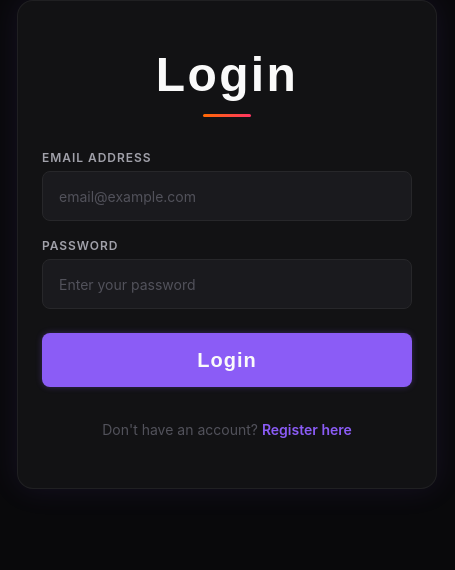
LoginForm › shows the authentication error and keeps the form available
In the field labelled "Email Address": (227, 196) x1=42 y1=171 x2=412 y2=221, type "amina@example.com"
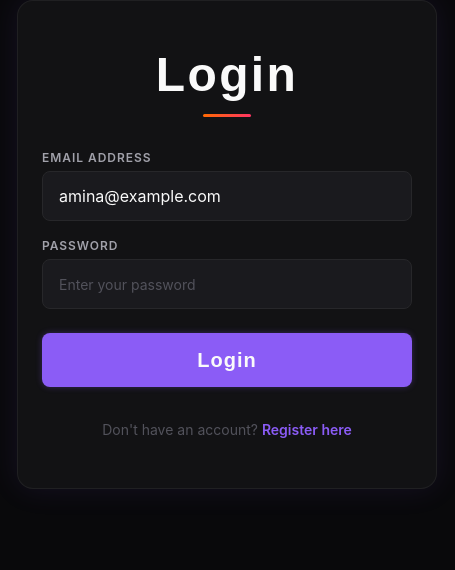
In the password field labelled "Password": (227, 284) x1=42 y1=259 x2=412 y2=309, type "wrong-password"
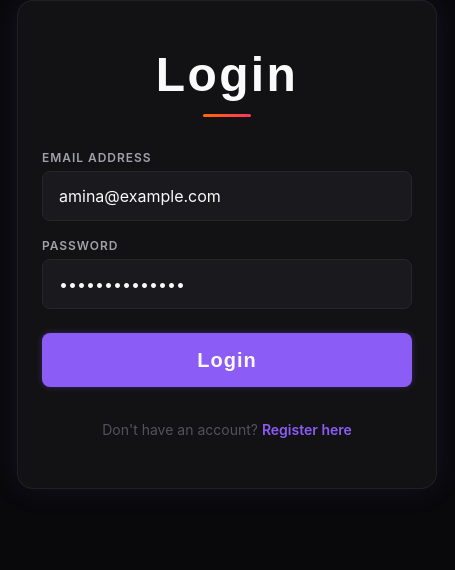
Click the button "Login": (227, 360) x1=42 y1=333 x2=412 y2=387
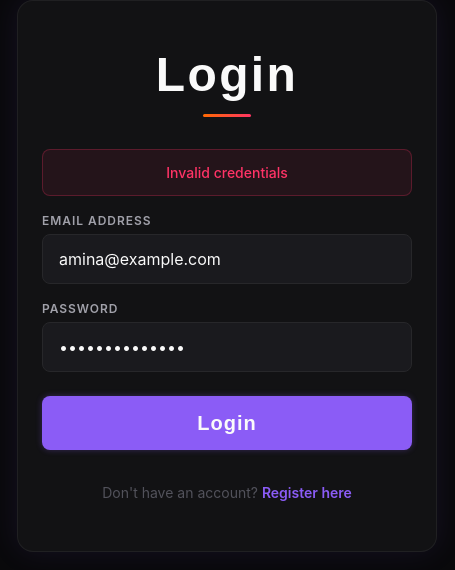
Check: the button "Login" is enabled, box x1=42 y1=396 x2=412 y2=450
Check: the text "Invalid credentials" is shown, box x1=42 y1=149 x2=412 y2=196
